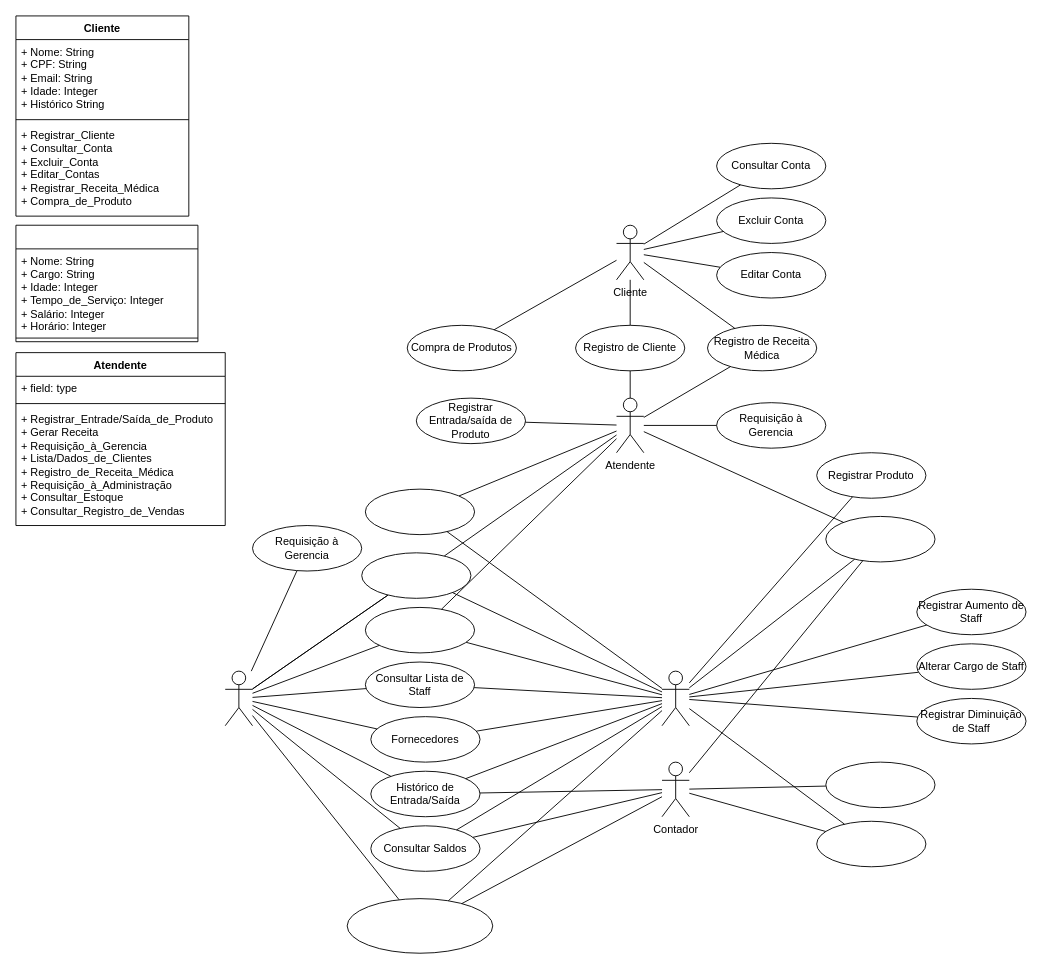
Some shapes in this 1042 by 969 pixel diagram are drawn without their labels. Here are the shapes that lost their labels. From the top down, the box of each, then its label:
(15, 224, 198, 342): Staff
(364, 488, 475, 535): Lista/Dados de Clientes
(825, 516, 935, 562): Requisição à Administração
(361, 552, 471, 598): Consultar Estoque
(364, 607, 475, 653): Consultar Registro de Vendas
(224, 670, 253, 726): Administrador
(661, 670, 689, 726): Gerente
(825, 761, 935, 808): Gerar Declarações Financeiras
(816, 820, 926, 867): Gerar Relatório
(346, 898, 493, 953): Registro de despesas Administrativas/Comerciais
